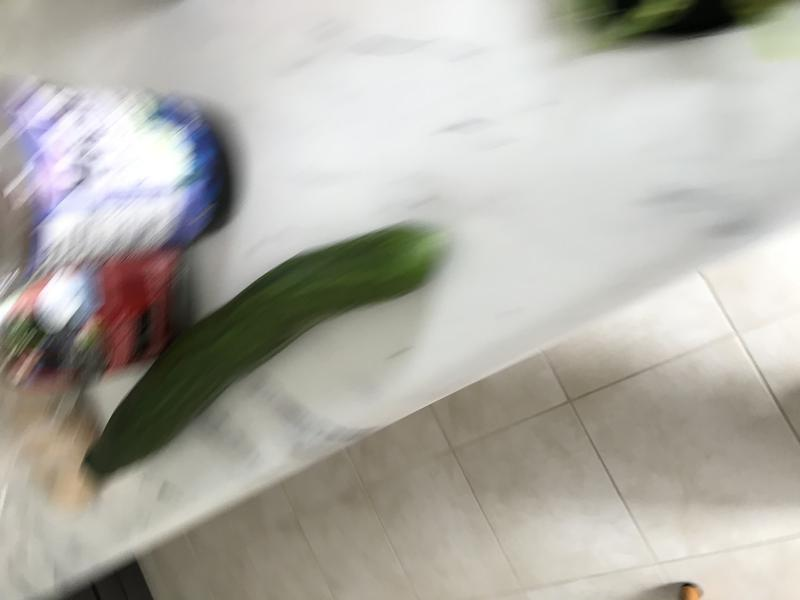cucumber: (72, 204, 457, 503)
